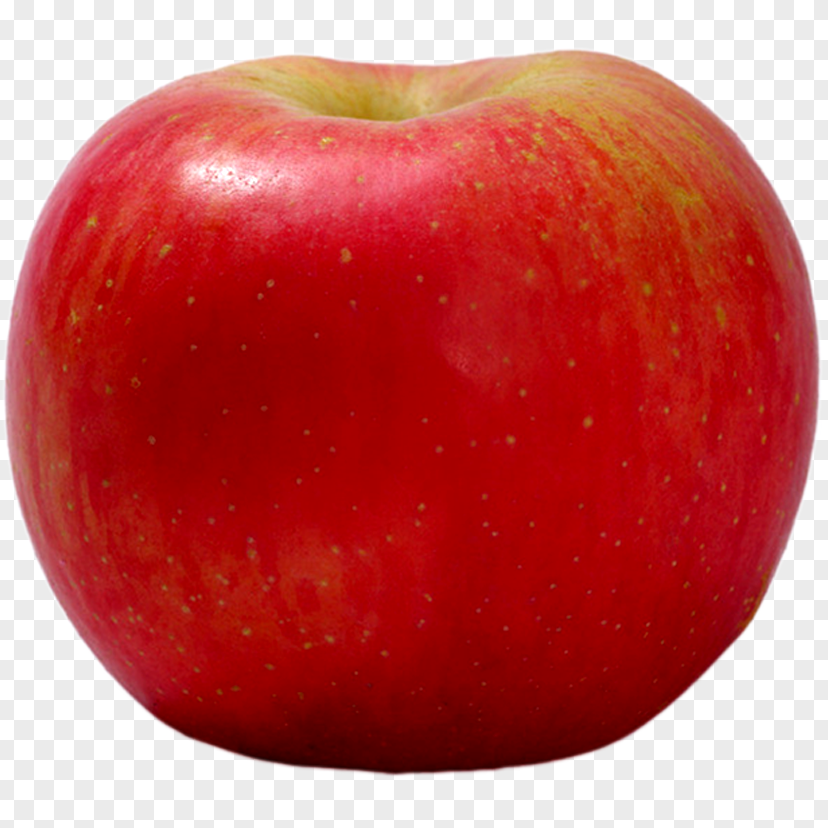apple: (2, 55, 827, 778)
